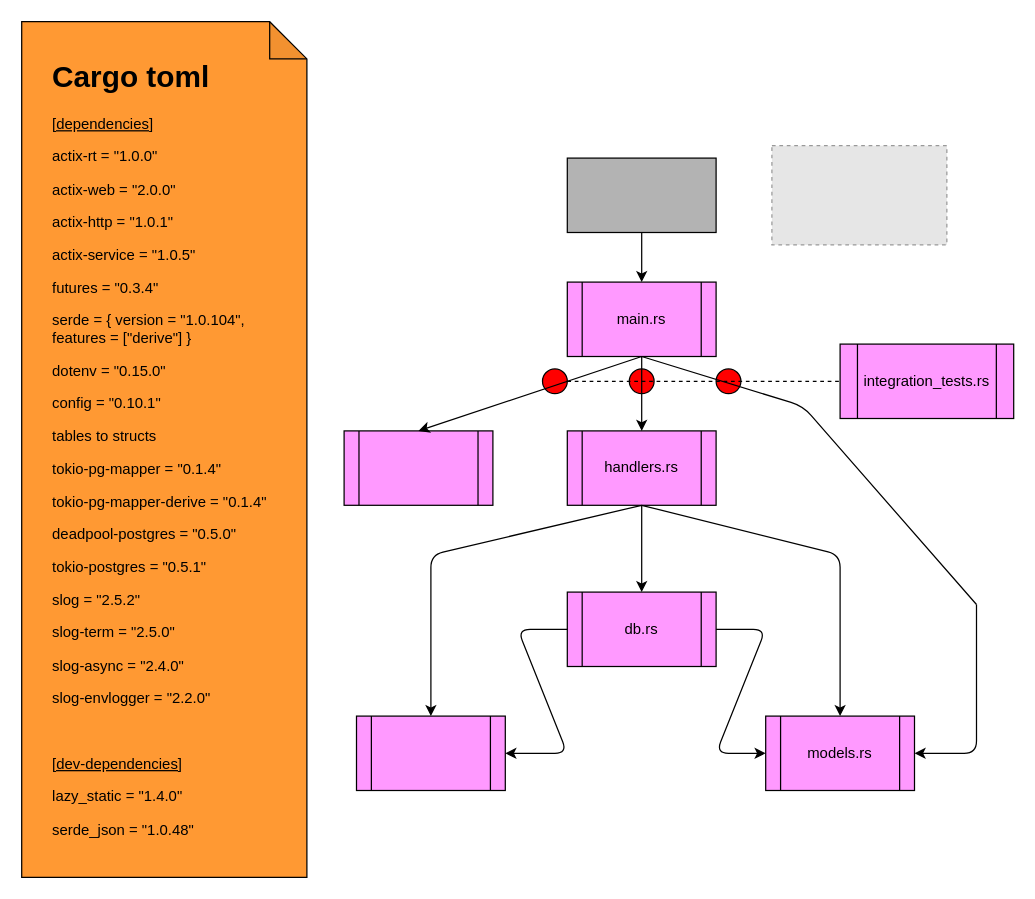
The diagram is 1035 pixels wide and 899 high, and some of its shapes have lost their labels. Grey dashed boxes stand in for pictures. Each missing label, with the box of its shape:
config.rs: (343, 430, 493, 505)
errors.rs: (355, 715, 505, 790)
src: (566, 157, 716, 232)
